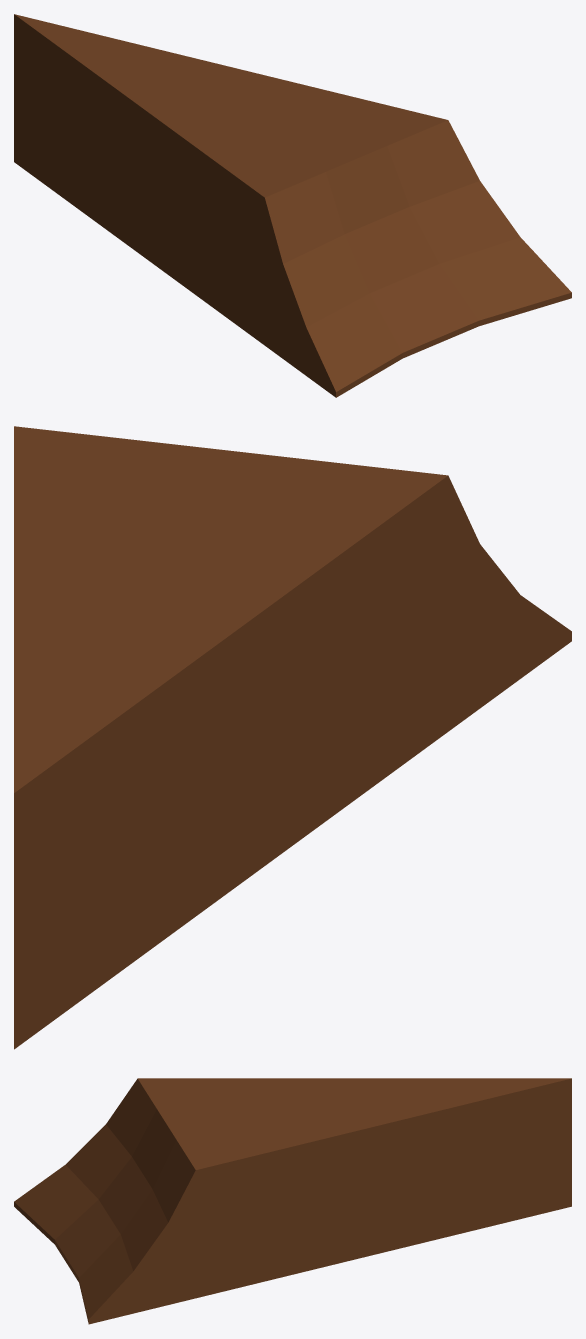
The model's file is Dach_1.fbx.
3 renders of one model, top to bottom at view 1: azimuth 30°, elevation 25°; view 2: azimuth 150°, elevation 25°; view 3: azimuth 270°, elevation 25°, orthographic. The views are drawn at different scales.
Parts seen in each view (by area): view 1: Dach_1; view 2: Dach_1; view 3: Dach_1.
Boxes of the visible parts, x1,y1,x2,y2 form: Dach_1: (14, 14, 571, 397); Dach_1: (14, 426, 571, 1049); Dach_1: (14, 1078, 571, 1324).
Bounding box in the file's own units: 513 × 260 × 1026.
